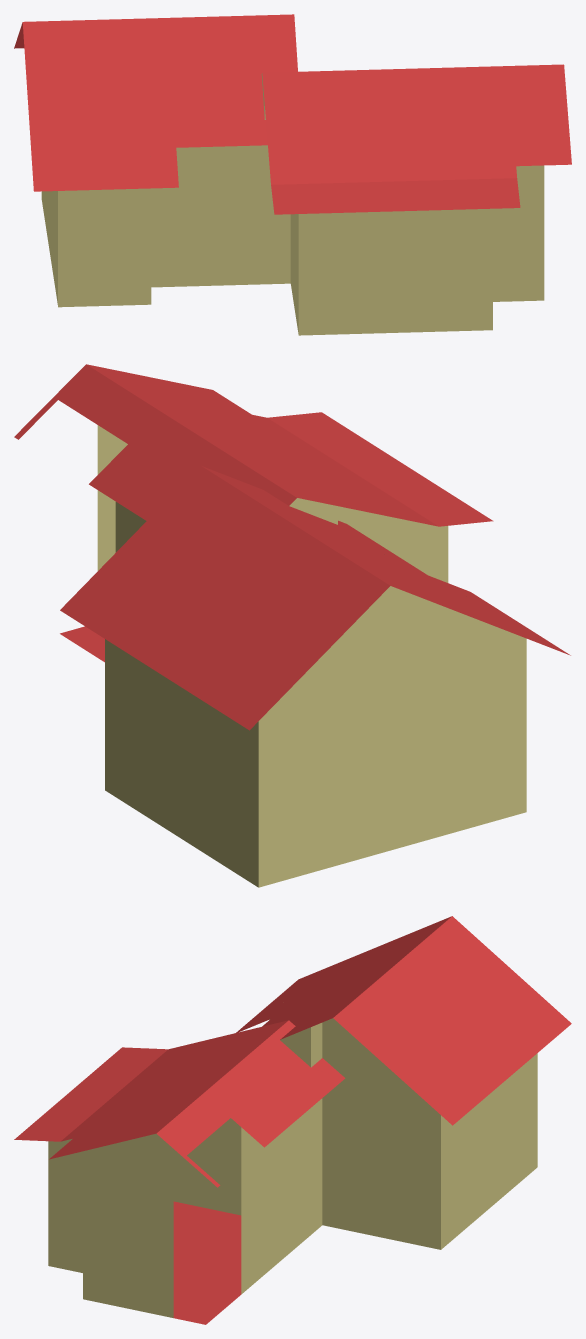
The picture shows the model from 3 angles, top to bottom: view 1: azimuth 30°, elevation 25°; view 2: azimuth 150°, elevation 25°; view 3: azimuth 270°, elevation 25°; orthographic projection. The views are drawn at different scales.
Size of the model in its own units: 21.51 by 21.66 by 9.49.
